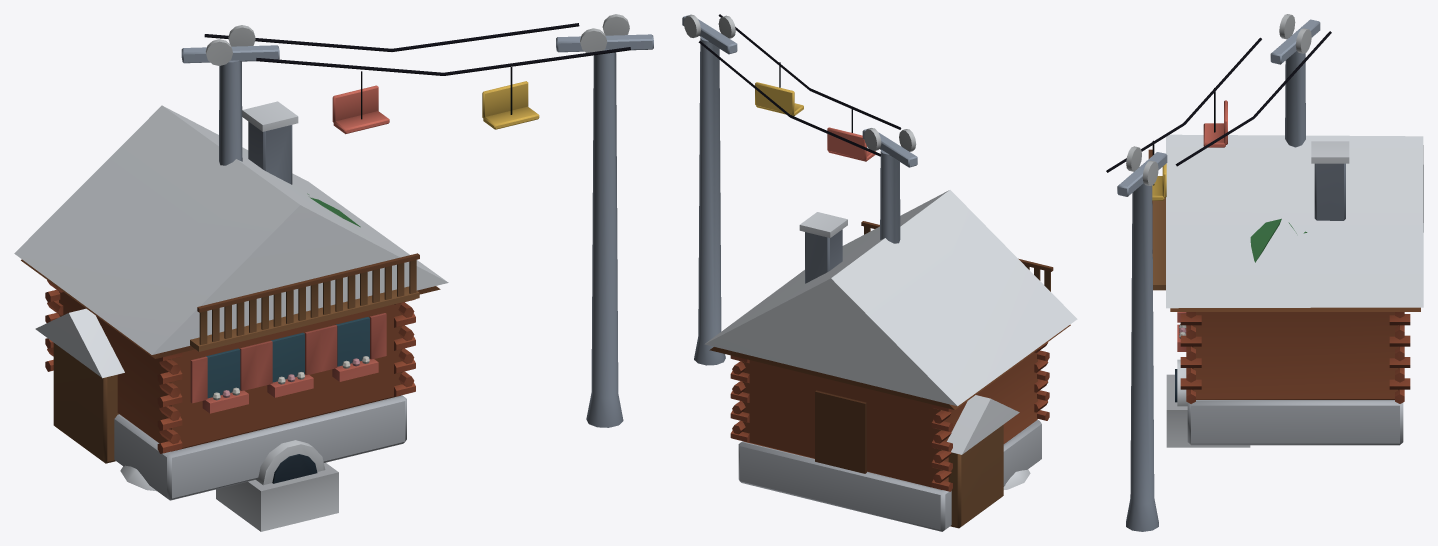
Rendered from kit-nevegal.glb.
The picture shows the model from 3 angles, left to right: view 1: azimuth 30°, elevation 25°; view 2: azimuth 150°, elevation 25°; view 3: azimuth 270°, elevation 25°; orthographic projection. The views are drawn at different scales.
Visible parts, largest first — view 1: chalet, sciovia, igloo; view 2: chalet, sciovia; view 3: chalet, sciovia, igloo, palma.
Part boxes in pixels (x1,y1,x2,y2): chalet: (14,101,448,500); sciovia: (35,14,653,463); igloo: (216,440,338,531); chalet: (704,190,1077,531); sciovia: (682,14,1019,528); chalet: (1148,134,1423,445); sciovia: (1106,14,1331,531); igloo: (1166,359,1250,447); palma: (1250,218,1296,262).
Size of the model in its own units: 7.4 by 6.46 by 4.57.
